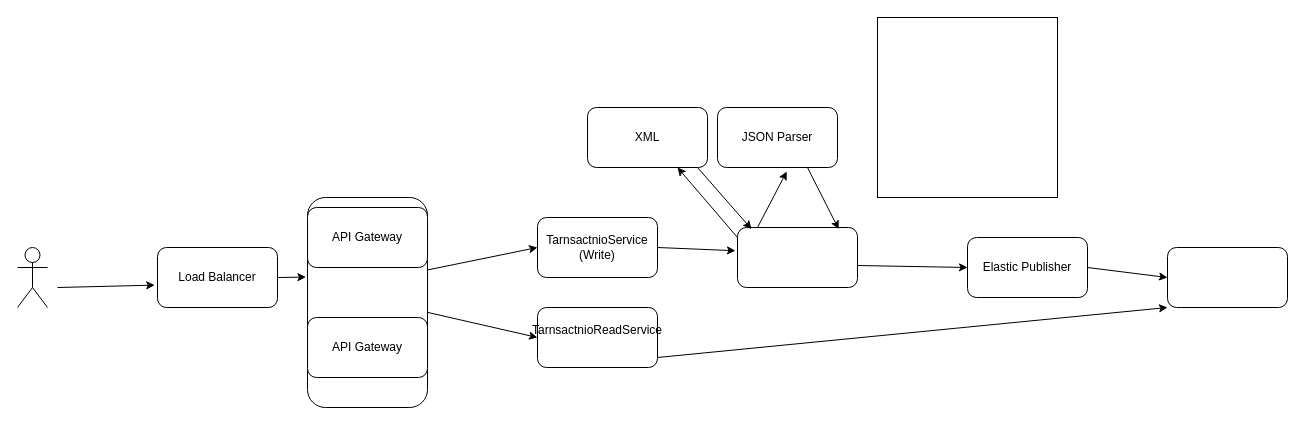
Image size: 1305x425. Some labels were removed from this diagram. Each missing label, with the centre of its shape:
"Actor" goes at (32,277).
"ElasticSearch" goes at (1227,277).
"Kafka" goes at (797,257).
"Transaction: Entry_date, outgoing_date Src_acct Target_acct" goes at (967,107).
